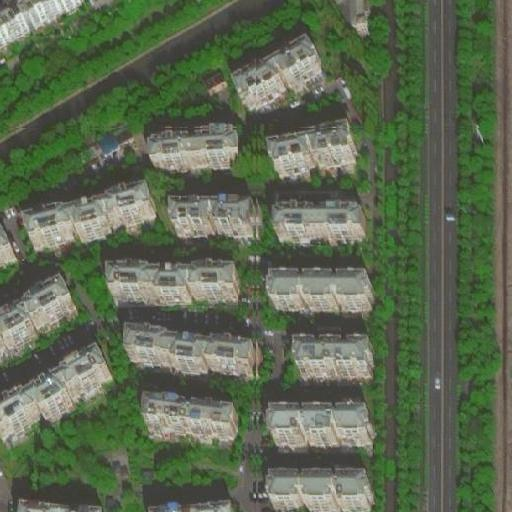building: (0, 343, 111, 437), (26, 177, 157, 245), (235, 36, 324, 103), (0, 274, 76, 345), (125, 325, 249, 366), (143, 393, 239, 435), (269, 120, 356, 166), (113, 263, 237, 293), (270, 469, 369, 503), (151, 126, 242, 162), (271, 402, 367, 436), (272, 271, 370, 303), (170, 195, 259, 228), (275, 201, 364, 233), (297, 336, 371, 369), (141, 499, 229, 512), (12, 500, 100, 512), (193, 66, 226, 96), (0, 223, 16, 259)
